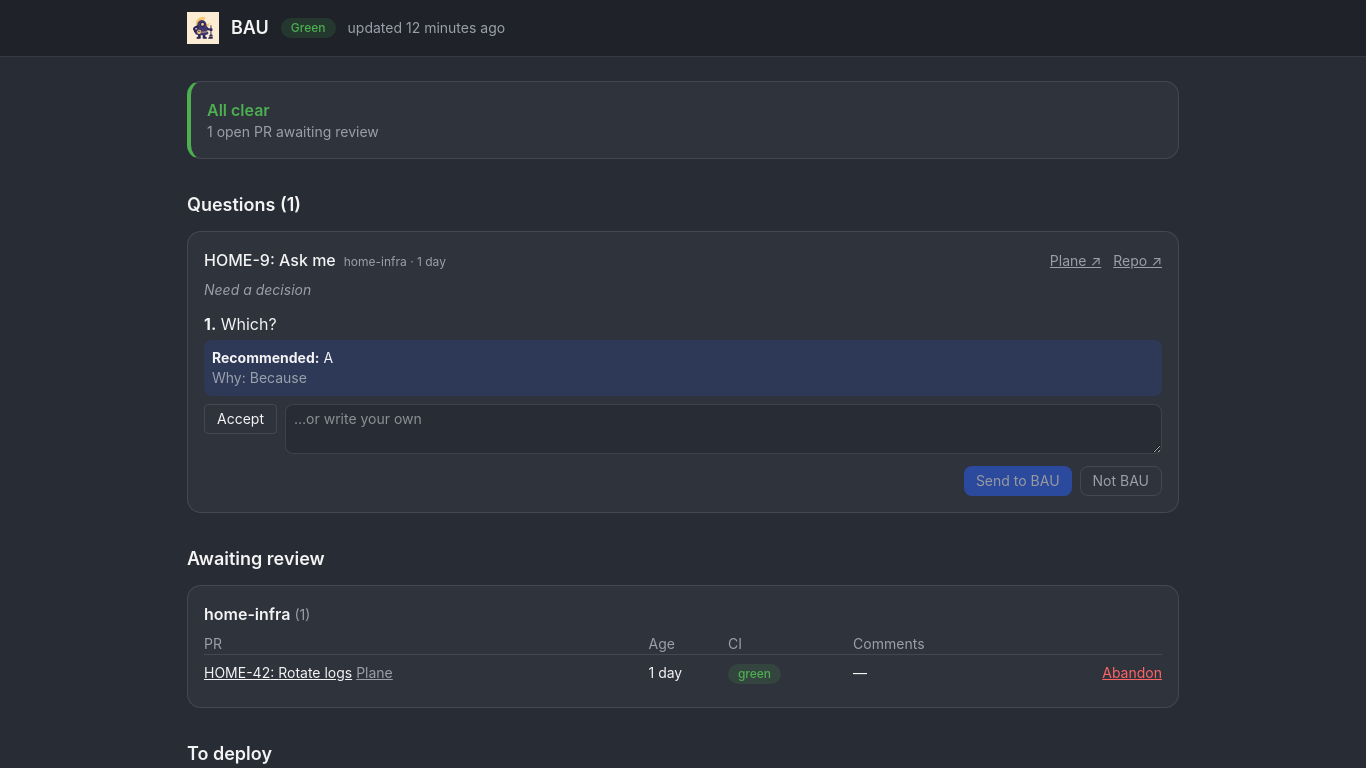
Test case: App › refetches after a refused send so a new round appears
Click the button "Accept".
click(240, 419)  # box x1=204 y1=404 x2=277 y2=434
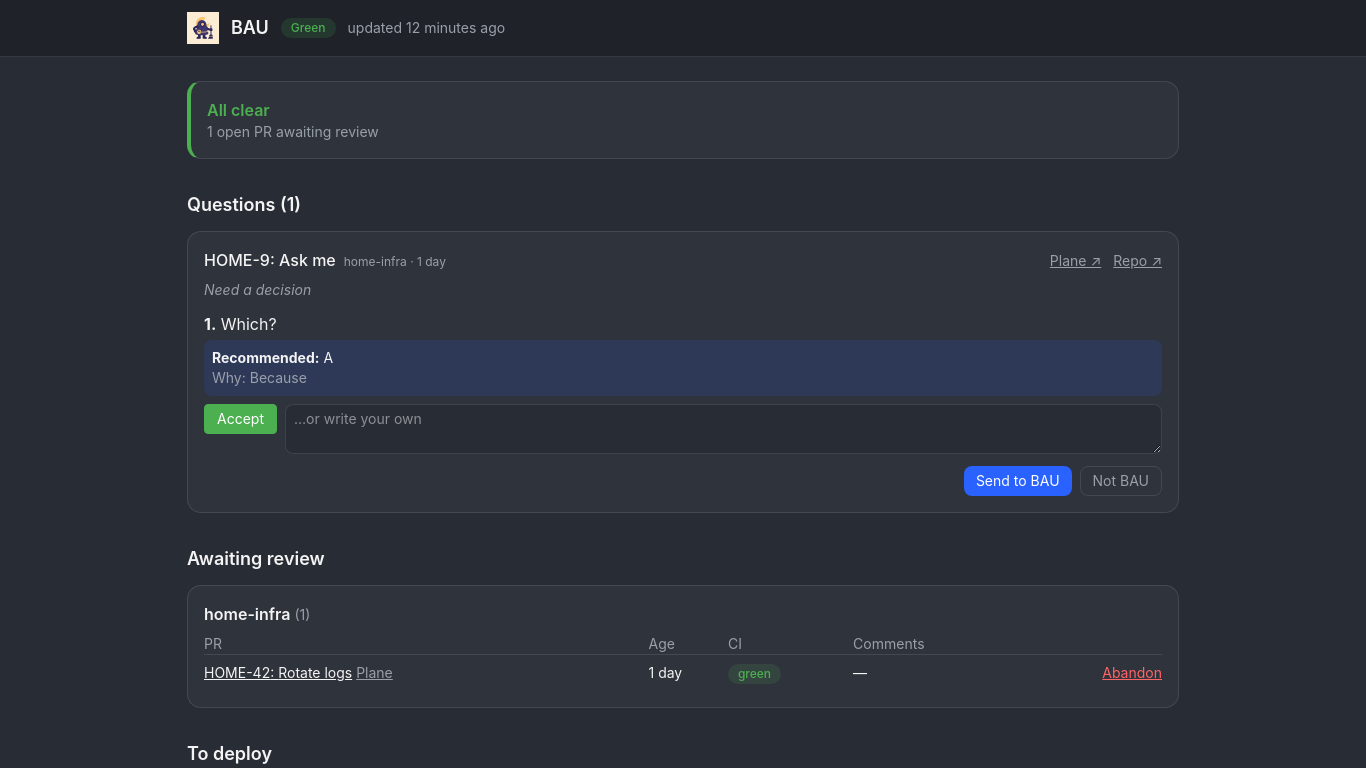
Click the button "Send to BAU".
click(1018, 481)  # box x1=964 y1=466 x2=1072 y2=496
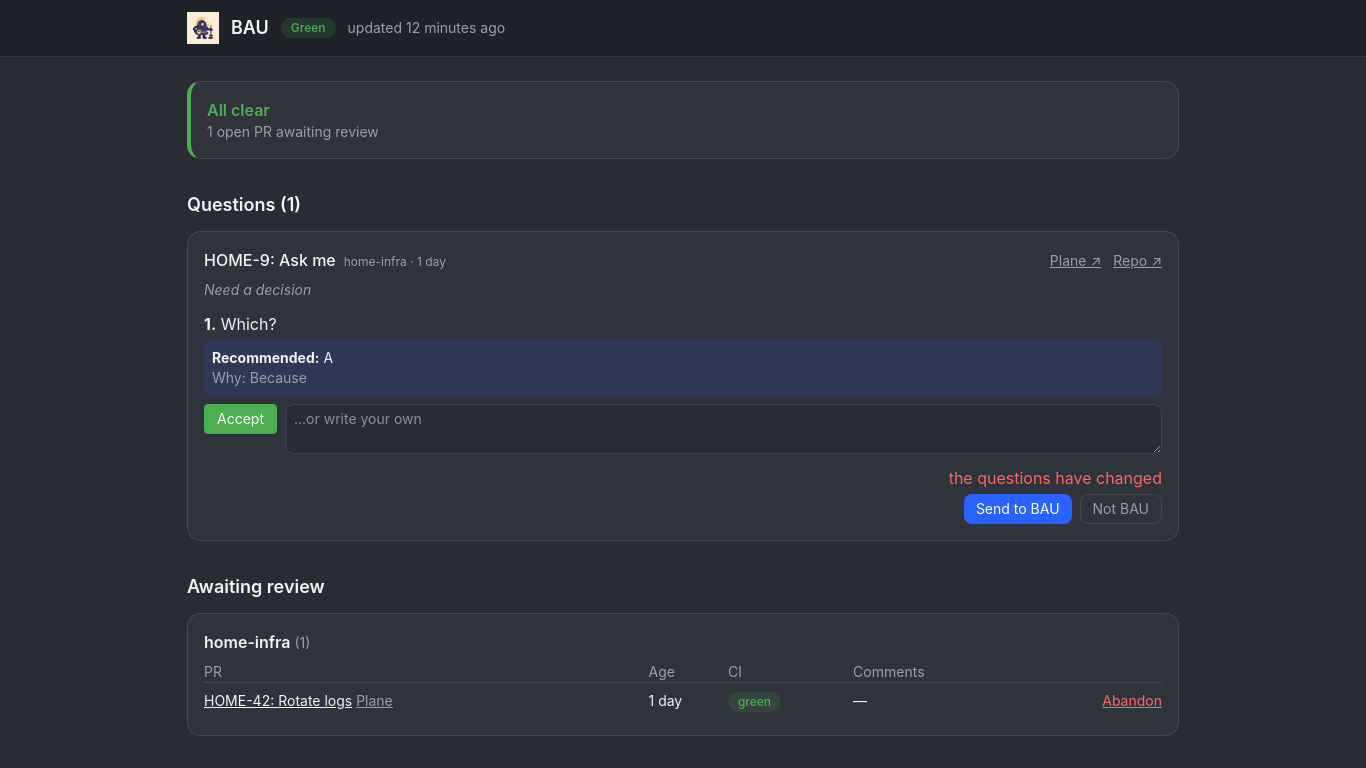
Expected: the text "the questions have changed" is shown, x1=949 y1=466 x2=1162 y2=490
